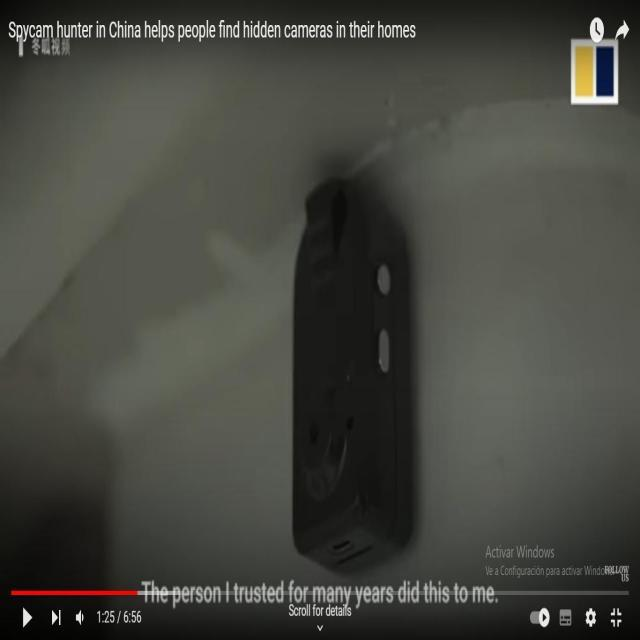hidden camera: (302, 408, 324, 455)
